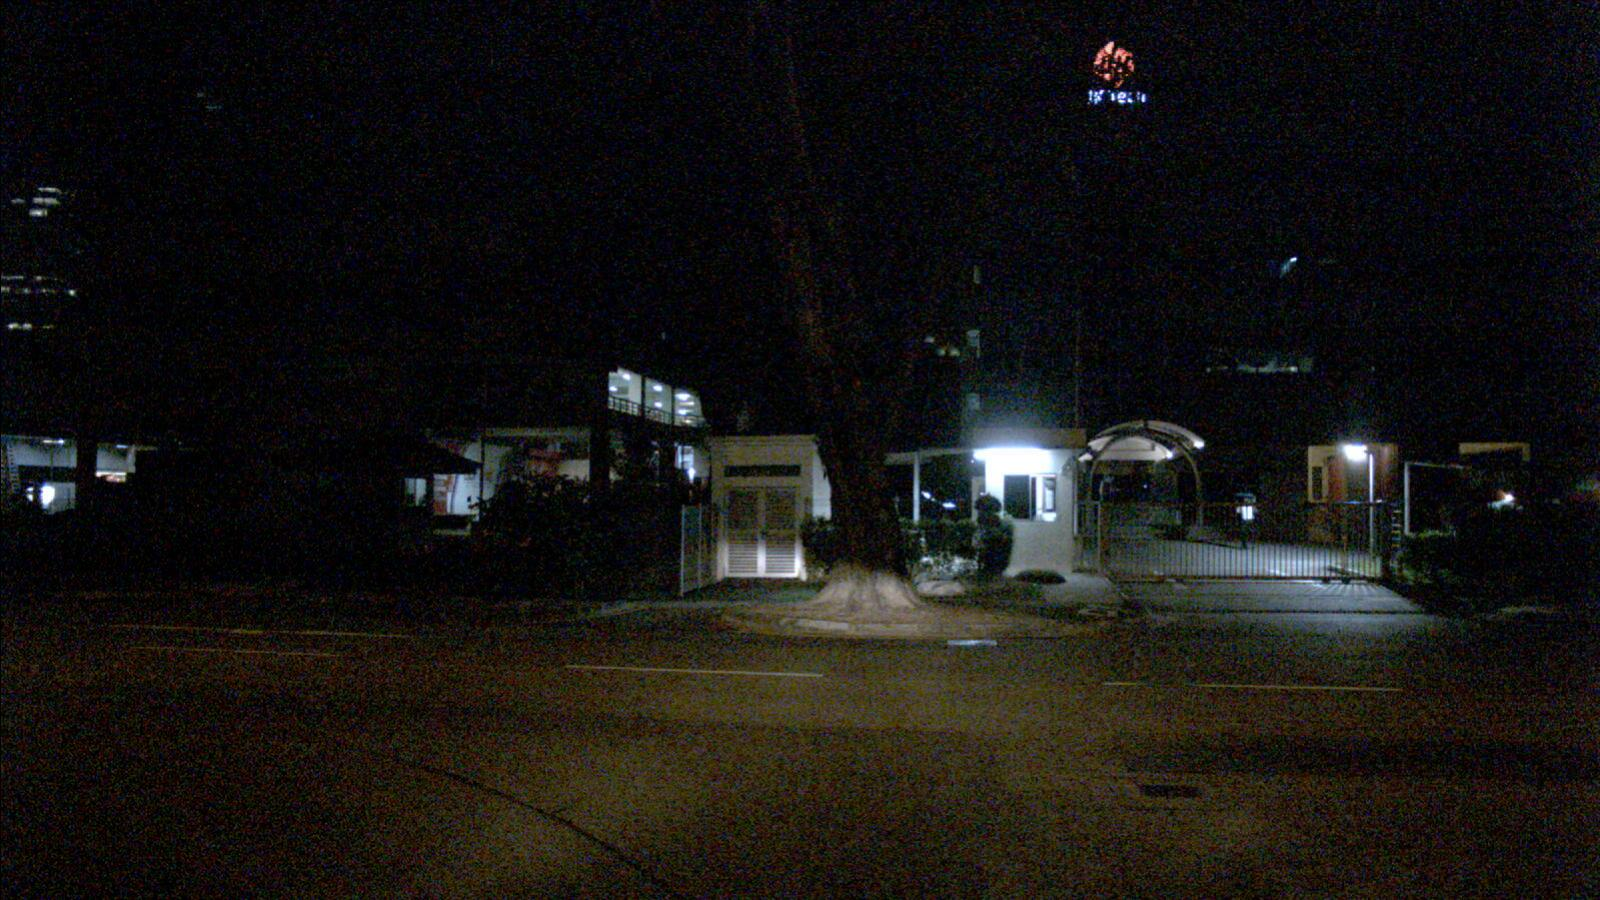human.pedestrian.adult-pedestrian.moving: (1234, 498, 1258, 550)
